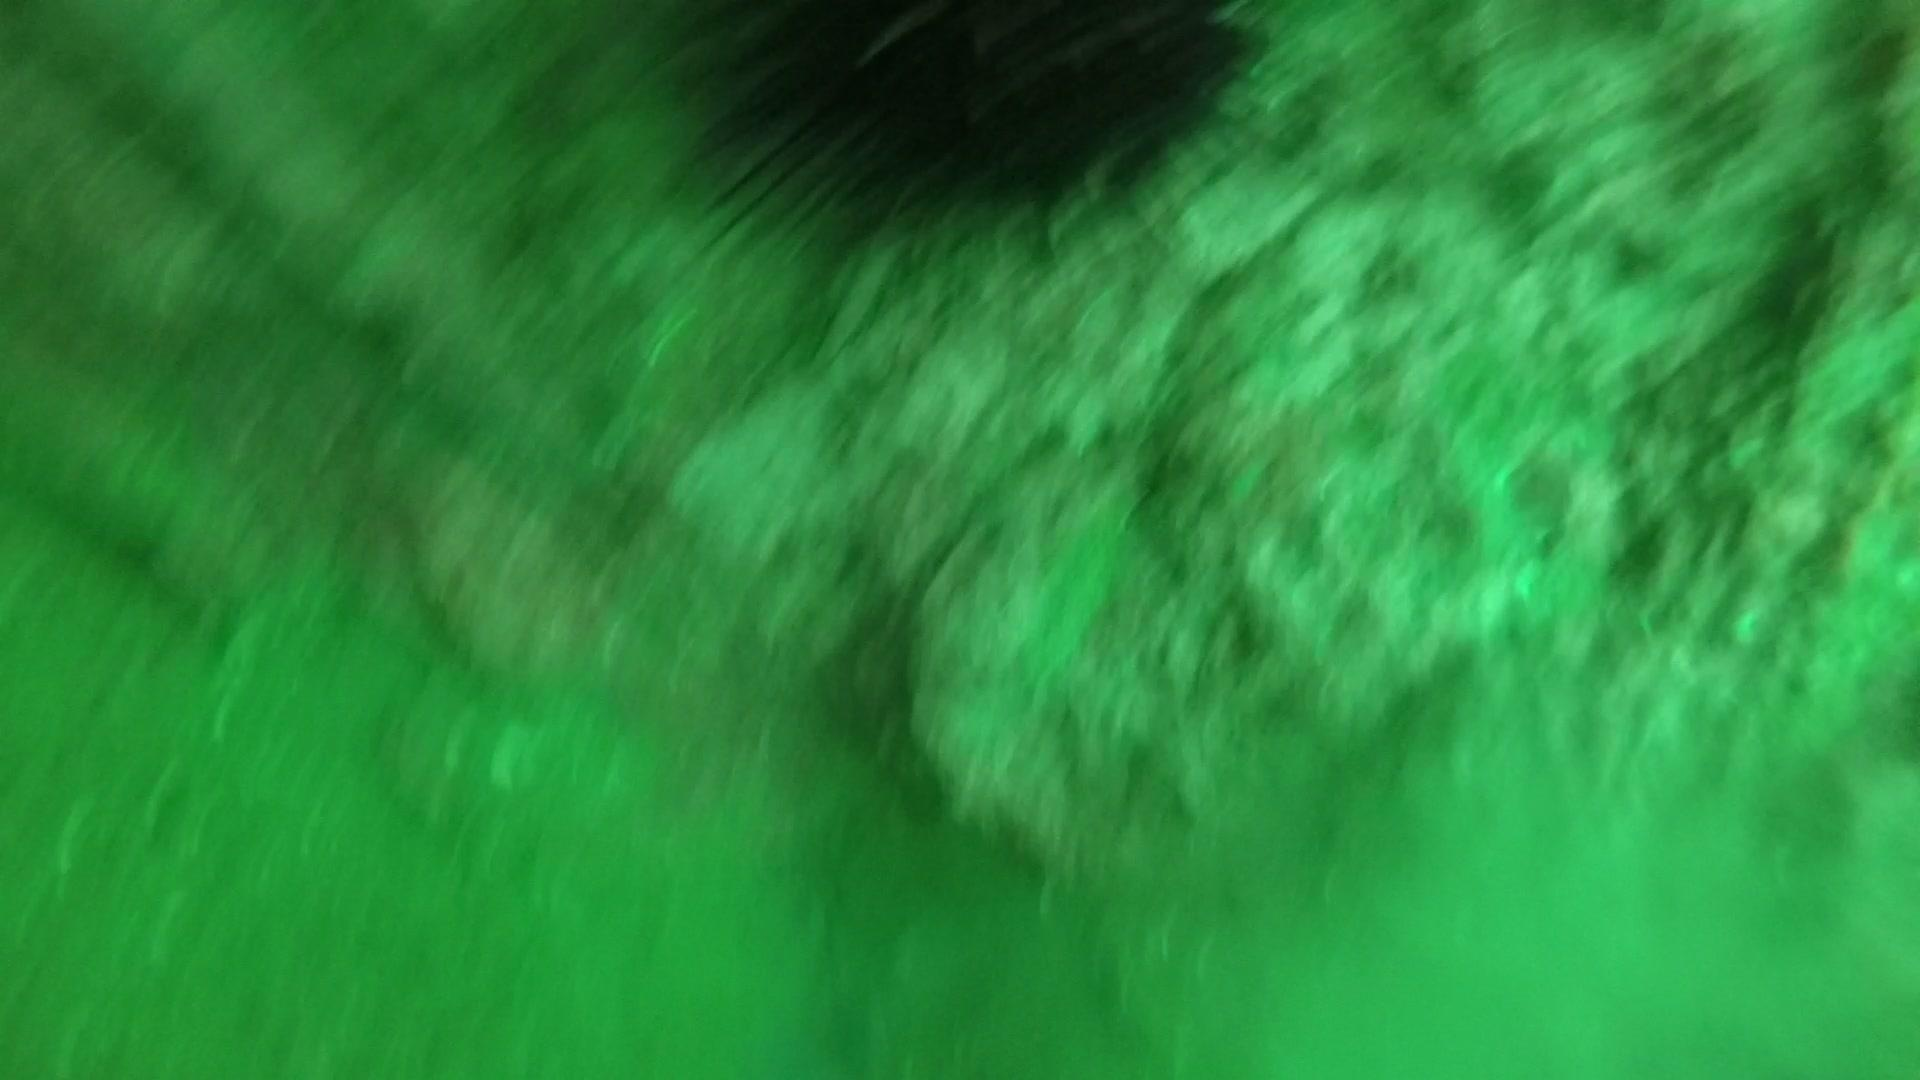echinus: (640, 3, 1273, 252)
